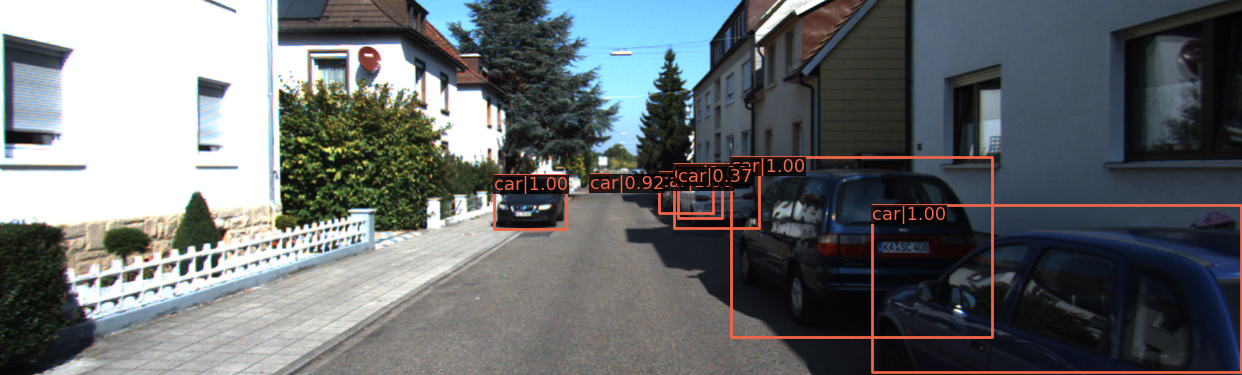car: (865, 212, 1242, 375), (497, 176, 562, 228), (661, 176, 708, 216)
